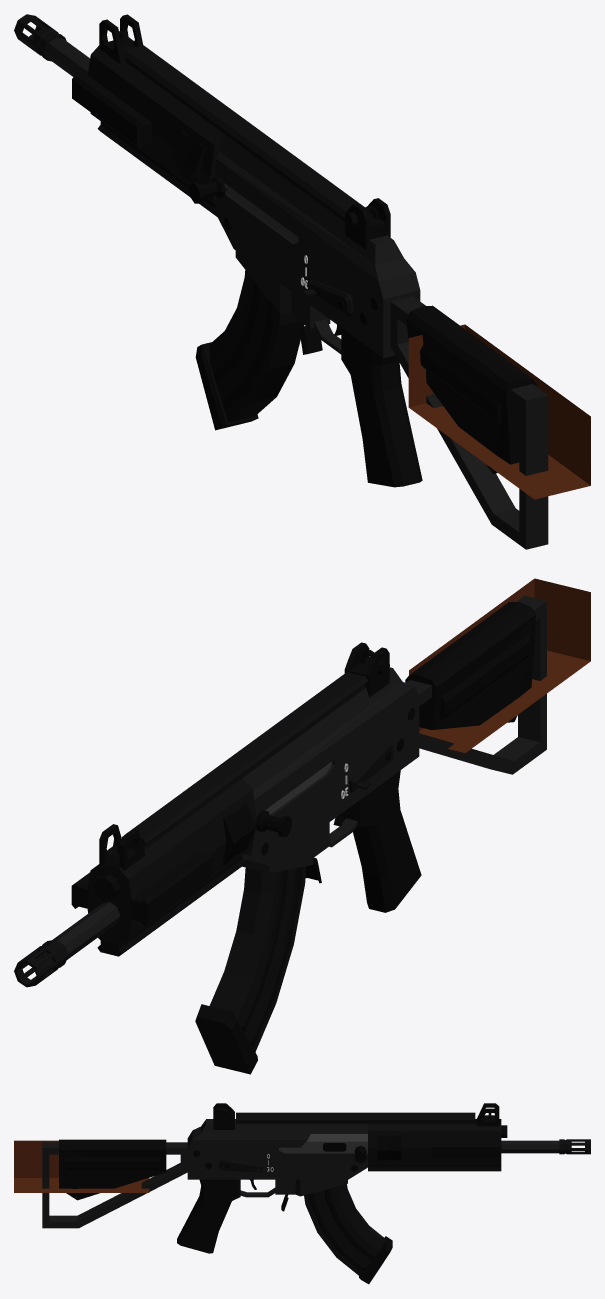
Rendered from vpo139.obj.
The picture shows the model from 3 angles, top to bottom: view 1: azimuth 30°, elevation 25°; view 2: azimuth 150°, elevation 25°; view 3: azimuth 270°, elevation 25°; orthographic projection. The views are drawn at different scales.
Visible parts, largest first — view 1: Body, Magazine; view 2: Body, Magazine; view 3: Body, Magazine.
Part boxes in pixels (<box>): Body: <box>14,14,590,549</box>; Magazine: <box>195,270,304,430</box>; Body: <box>14,578,590,987</box>; Magazine: <box>195,866,306,1074</box>; Body: <box>14,1103,590,1253</box>; Magazine: <box>304,1184,392,1284</box>.
Bounding box in the file's own units: 0.1147 × 0.3811 × 1.15.
